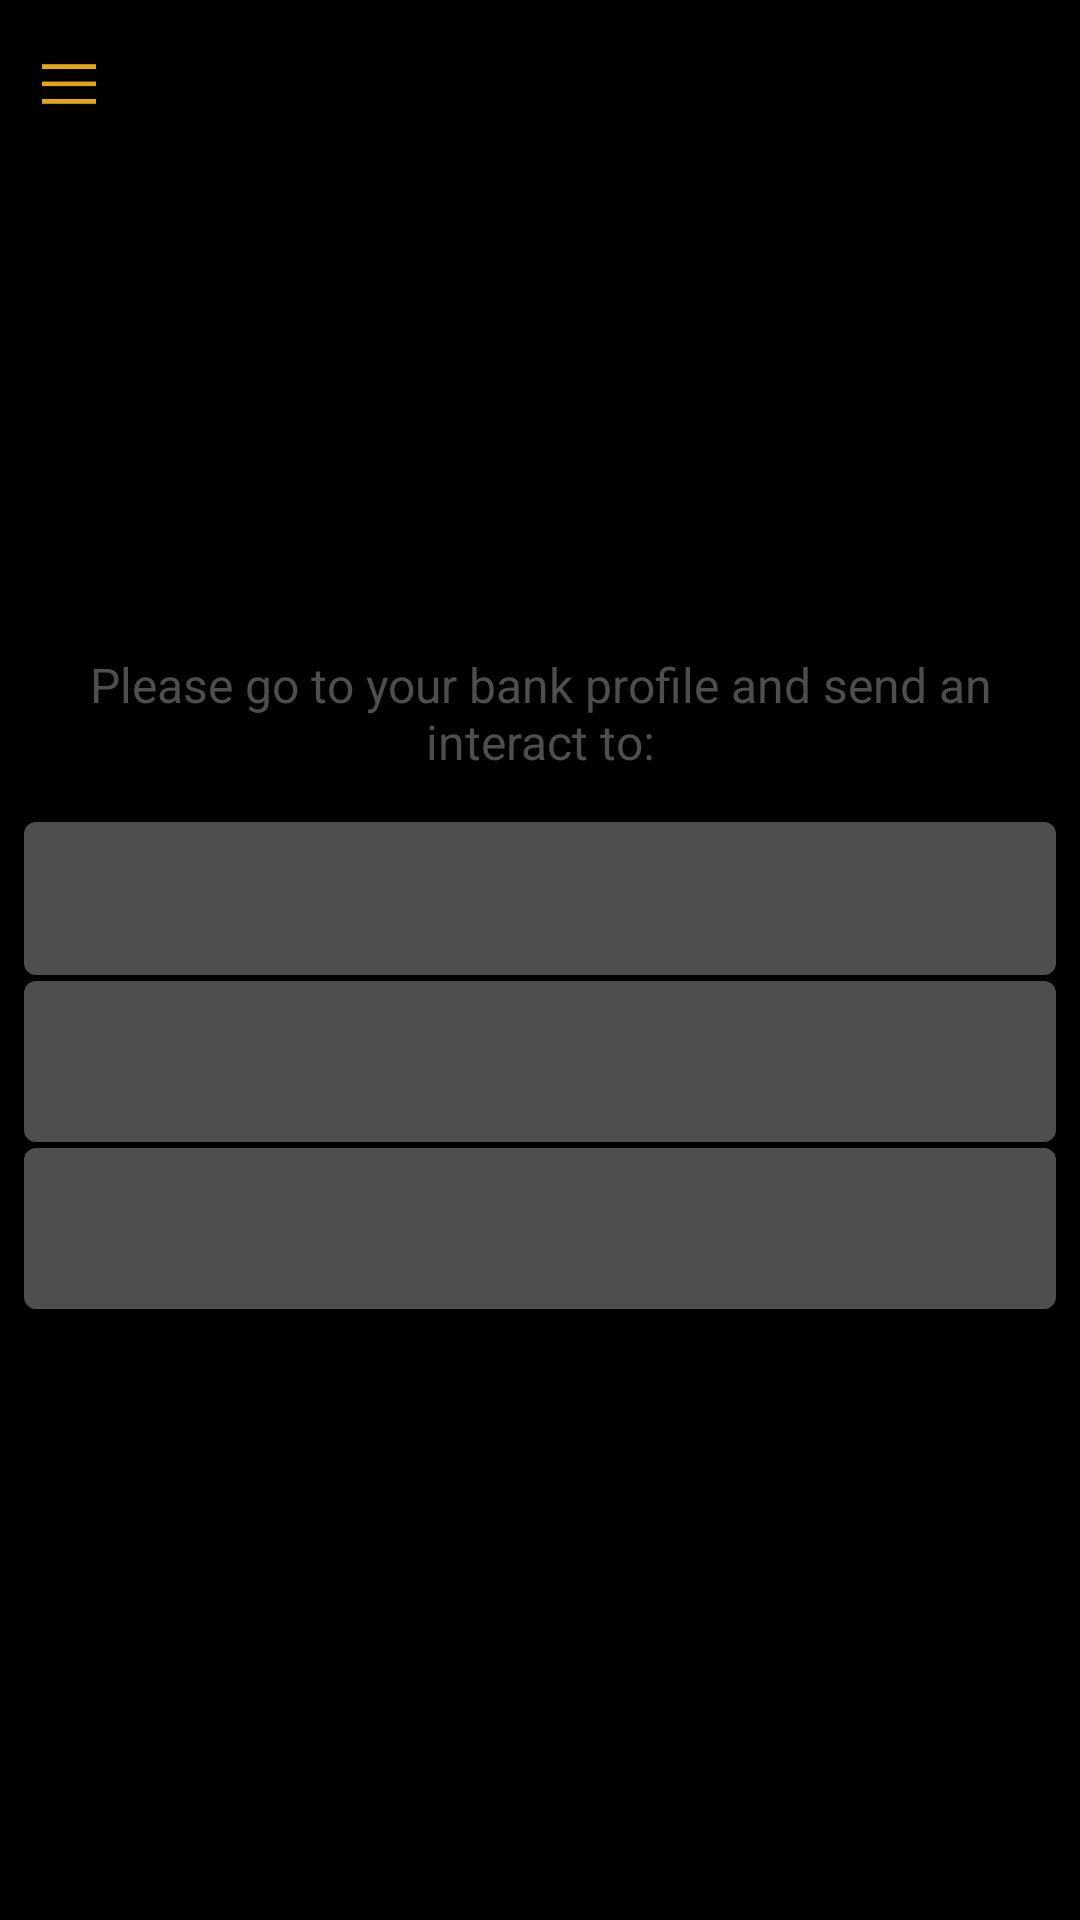

Icons on this 1080x1920 Android screen, each with its box as detection(x1, y1, x2, y2):
menu: detection(42, 64, 96, 104)
